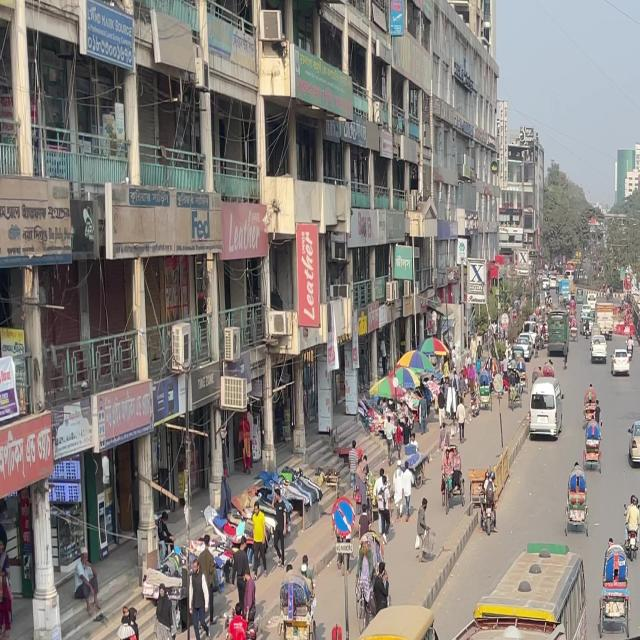bus: (466, 550, 586, 640)
car: (527, 403, 561, 440), (607, 341, 632, 374), (625, 425, 640, 467), (590, 329, 609, 359)
motorbike: (478, 461, 502, 542)
van: (350, 599, 435, 640)
